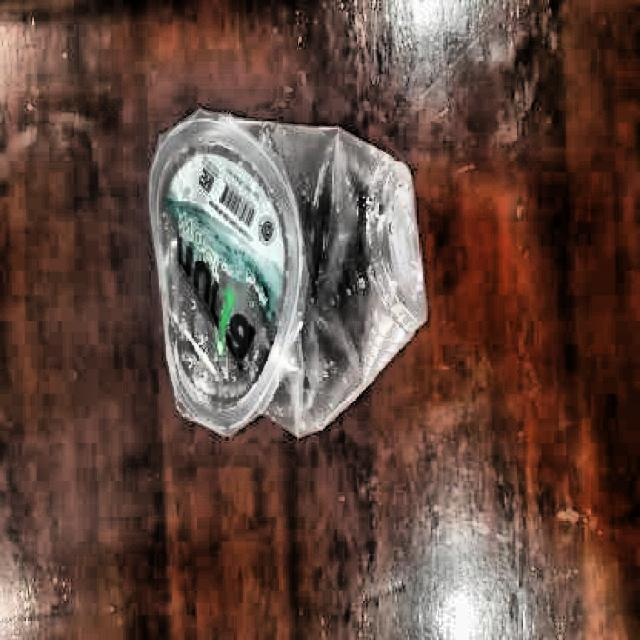Plastico descartable: (150, 109, 426, 437)
